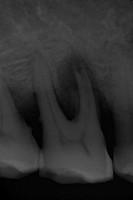Dental Caries: (52, 51, 111, 122)
